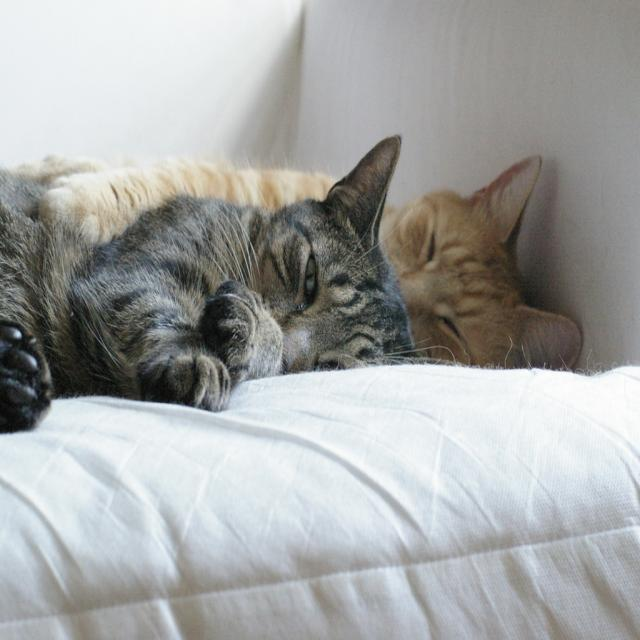Cat: (0, 136, 466, 431), (8, 150, 580, 371)
